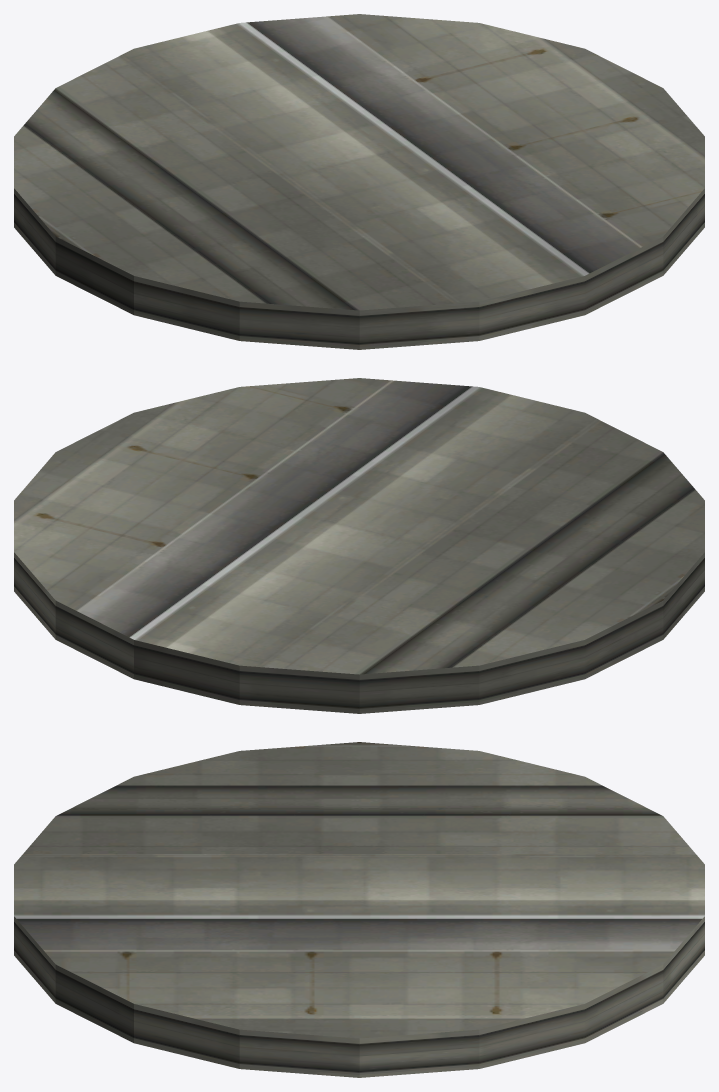
File: eaw_corBuild2.glb
3 renders of one model, top to bottom at view 1: azimuth 30°, elevation 25°; view 2: azimuth 150°, elevation 25°; view 3: azimuth 270°, elevation 25°, orthographic.
Parts seen in each view (by area): view 1: disk_0; view 2: disk_0; view 3: disk_0.
Boxes of the visible parts, box(x1,y1,x2,y2) form: disk_0: box(14, 14, 704, 349); disk_0: box(14, 378, 704, 713); disk_0: box(14, 742, 704, 1077).
Size of the model in its own units: 14.44 by 0.8955 by 14.22.
1 material, 1 textured.
